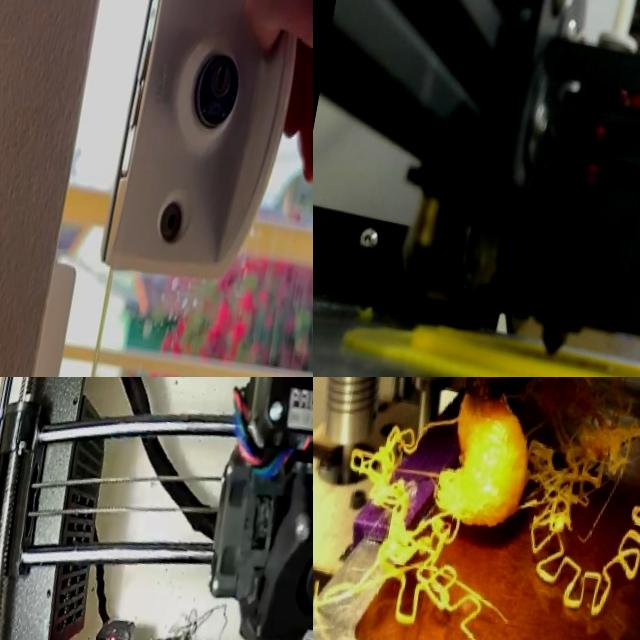spaghetti: (347, 419, 506, 638), (506, 377, 640, 620), (160, 593, 284, 640)
